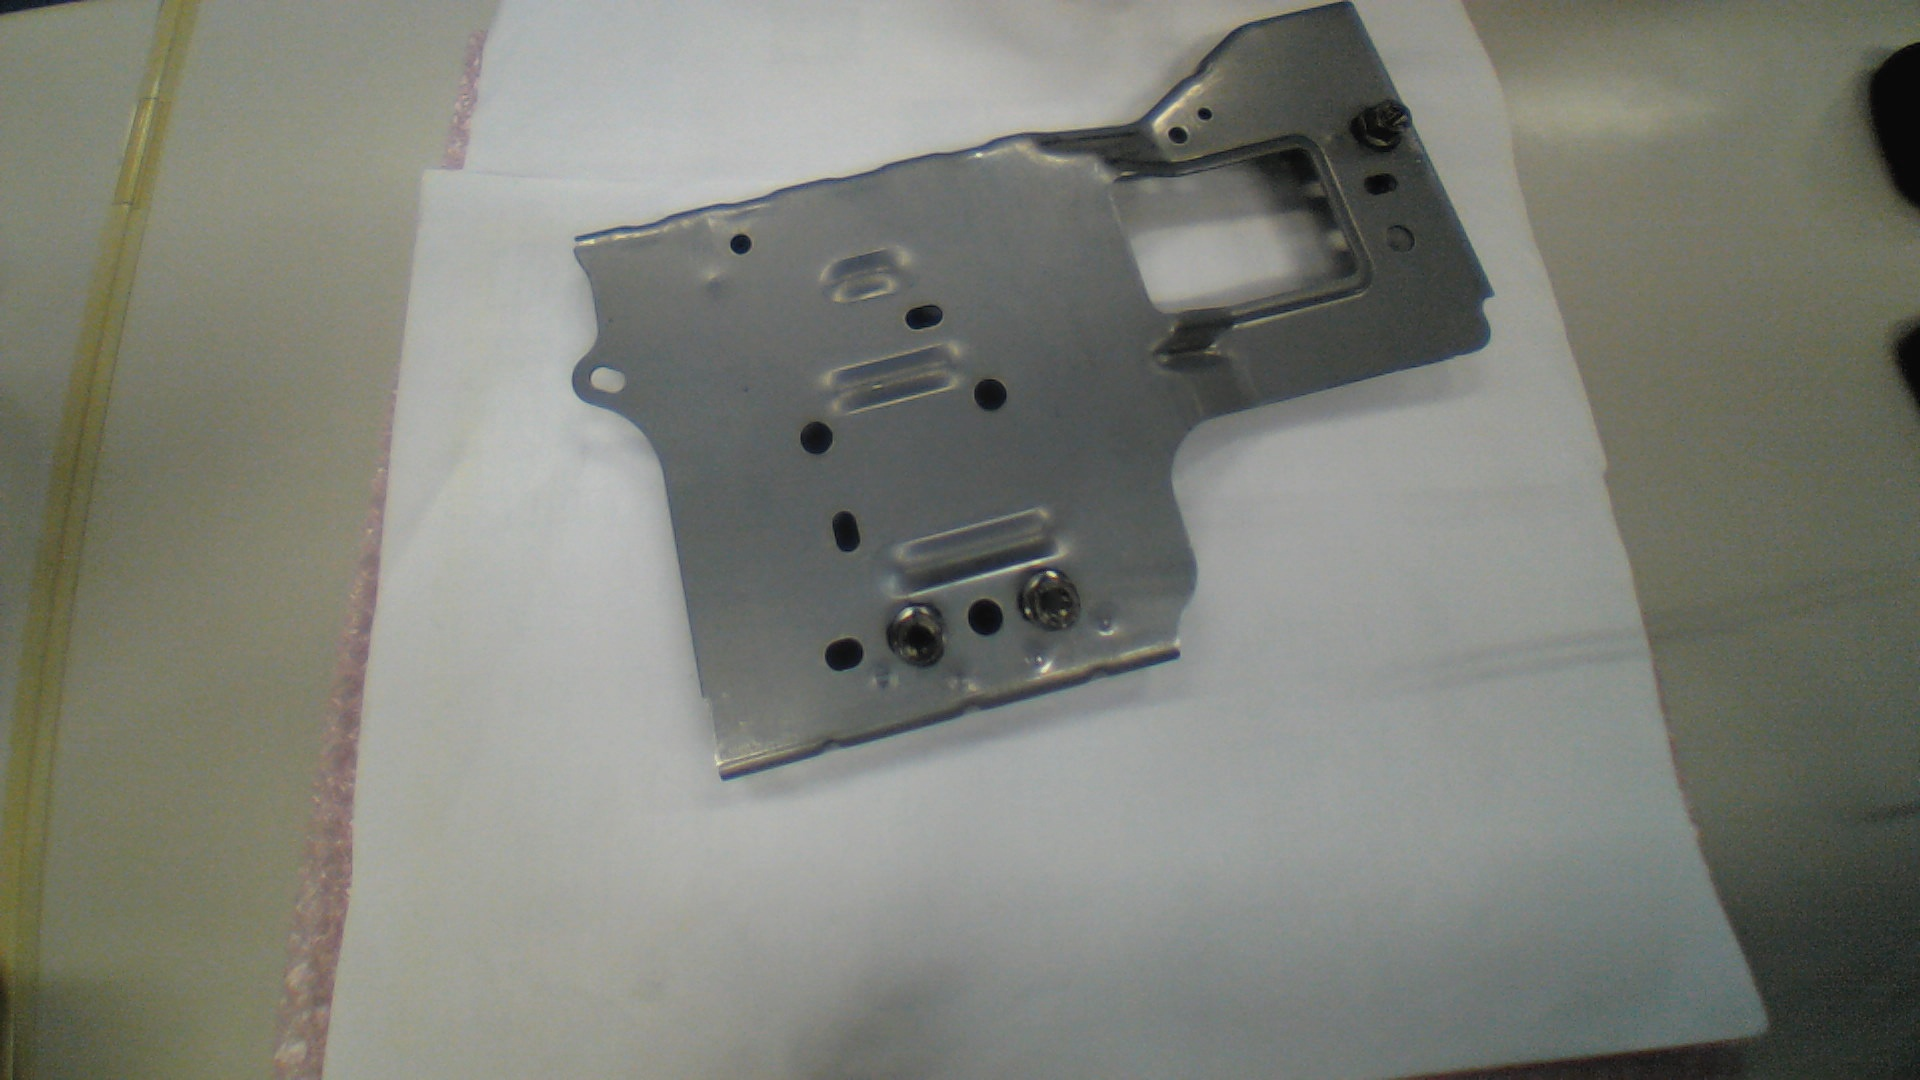dog: (1018, 570, 1079, 636), (889, 607, 948, 666), (1353, 99, 1414, 150)
